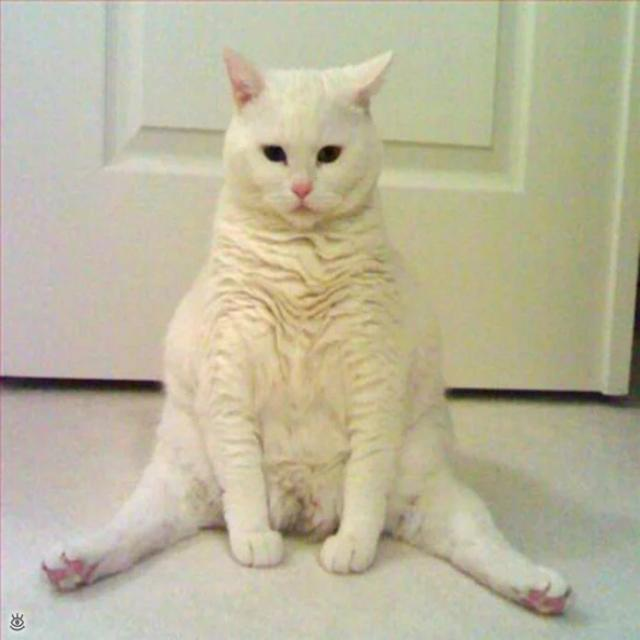Cats: (33, 10, 589, 636)
